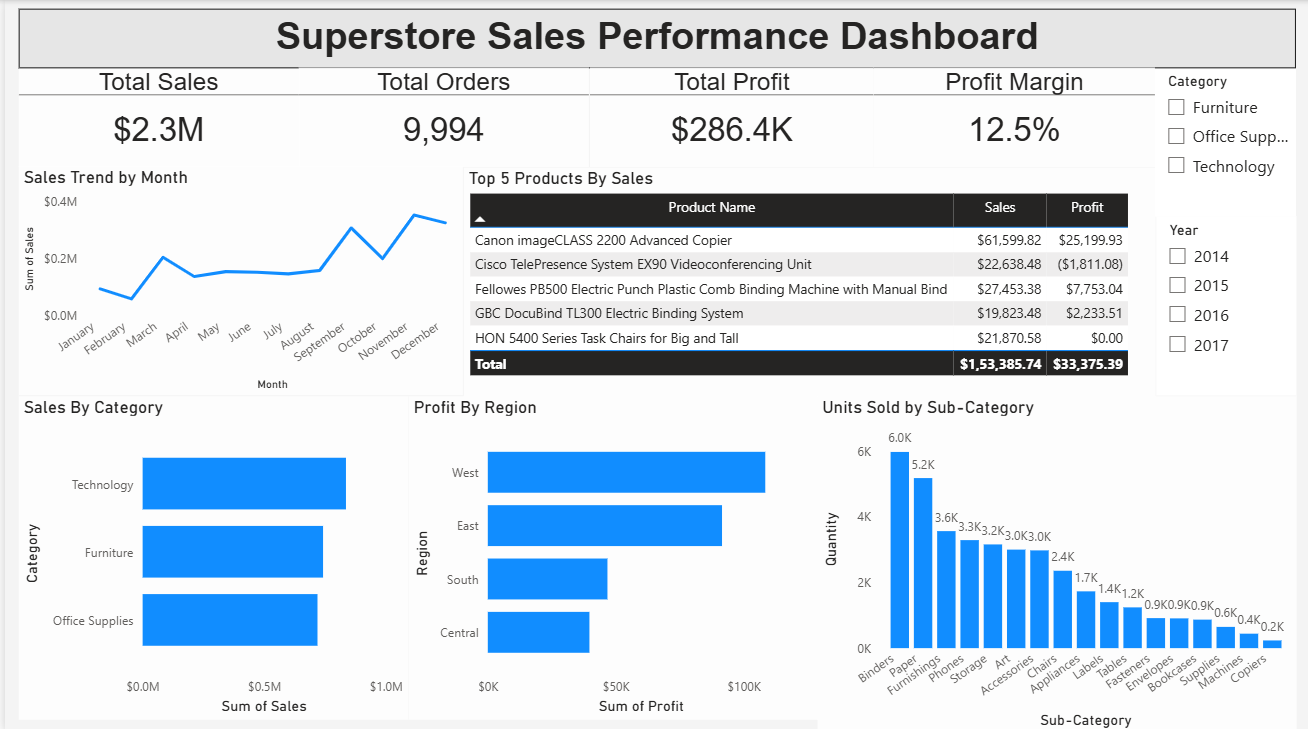

Layout of this report page (visuals, bound fields, positions):
{"tool":"powerbi","page":{"name":"Page 1","canvas":[1280,720],"ordinal":0},"visuals":[{"type":"card","title":"Total Sales","fields":{"Values":["Sample - Superstore.Total Sales $"]},"box":[13.8,66.2,275,97.5],"z":0},{"type":"clusteredBarChart","title":"Sales By Category","fields":{"Category":["Sample - Superstore.Category"],"Y":["Sum(Sample - Superstore.Sales)"]},"box":[13.8,388.8,382.5,317.5],"z":1000},{"type":"clusteredBarChart","title":"Profit By Region","fields":{"Y":["Sum(Sample - Superstore.Profit)"],"Category":["Sample - Superstore.Region"]},"box":[396.2,388.8,401.2,317.5],"z":2000},{"type":"lineChart","title":"Sales Trend by Month","fields":{"Category":["Sample - Superstore.Order Date.Variation.Date Hierarchy.Month","Sample - Superstore.Order Date.Variation.Date Hierarchy.Day"],"Y":["Sum(Sample - Superstore.Sales)"]},"box":[13.8,163.8,436.2,225],"z":3000},{"type":"tableEx","title":"Top 5 Products By Sales","fields":{"Values":["Sample - Superstore.Product Name","Sum(Sample - Superstore.Sales)","Sum(Sample - Superstore.Profit)"]},"box":[449.7,164.1,679.2,225],"z":4000},{"type":"slicer","fields":{"Values":["Sample - Superstore.Category"]},"box":[1128.8,66.2,138.8,146.2],"z":5000},{"type":"slicer","fields":{"Values":["Sample - Superstore.Order Date.Variation.Date Hierarchy.Year"]},"box":[1130,212.5,137.5,176.2],"z":6000},{"type":"textbox","box":[13.8,8.8,1253.8,58.8],"z":7000},{"type":"card","title":"Total Profit","fields":{"Values":["Sample - Superstore.Total Profit $"]},"box":[573.8,66.2,278.8,97.5],"z":8000},{"type":"columnChart","title":"Units Sold by Sub-Category","fields":{"Category":["Sample - Superstore.Sub-Category"],"Y":["Sum(Sample - Superstore.Quantity)"]},"box":[797.5,388.8,470,331.2],"z":9000},{"type":"card","title":"Total Orders","fields":{"Values":["CountNonNull(Sample - Superstore.Order ID)"]},"box":[288.8,66.2,285,97.5],"z":10000},{"type":"card","title":"Profit Margin","fields":{"Values":["Sample - Superstore.Profit Margin"]},"box":[852.5,66.2,276.2,97.5],"z":11000}]}

Visuals, with their boxes in screenshot pixels (x1, y1, x2, y2), scaled from the page's 1280x720 canvas onto the 1308x729 screenshot:
"Total Sales" card: (14,67,295,166)
"Sales By Category" clusteredBarChart: (14,394,405,715)
"Profit By Region" clusteredBarChart: (405,394,815,715)
"Sales Trend by Month" lineChart: (14,166,460,394)
"Top 5 Products By Sales" tableEx: (460,166,1154,394)
slicer - Sample - Superstore.Category: (1153,67,1295,215)
slicer - Sample - Superstore.Order Date.Variation.Date Hierarchy.Year: (1155,215,1295,394)
textbox: (14,9,1295,68)
"Total Profit" card: (586,67,871,166)
"Units Sold by Sub-Category" columnChart: (815,394,1295,728)
"Total Orders" card: (295,67,586,166)
"Profit Margin" card: (871,67,1153,166)
